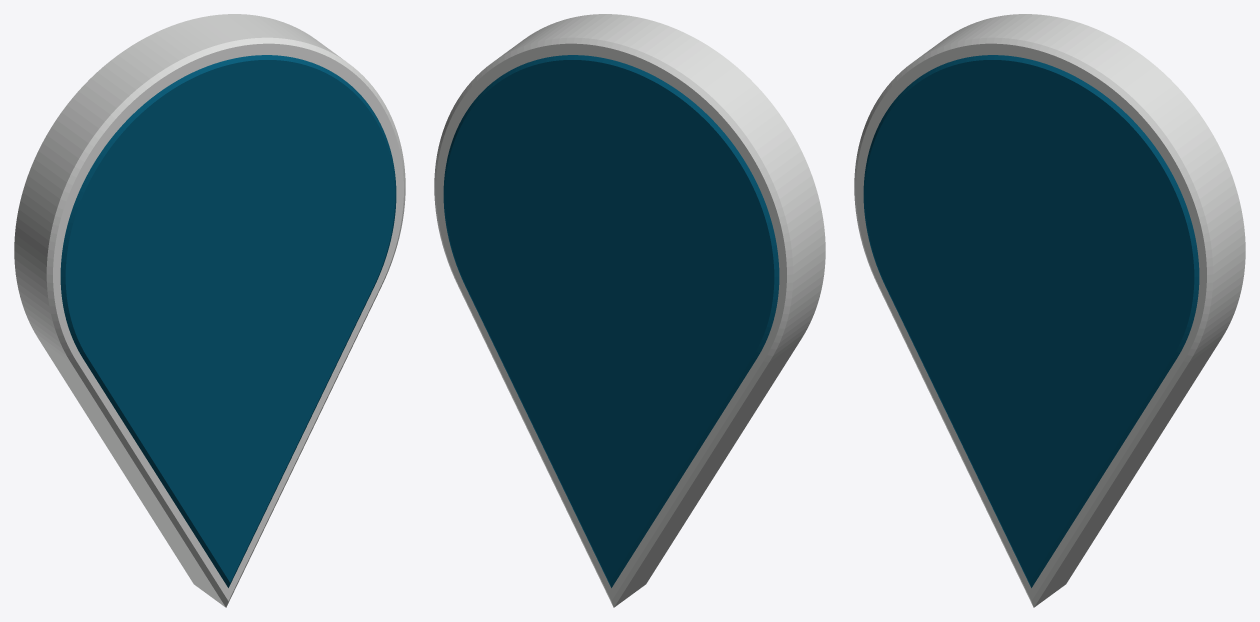
Rendered from plain-teal.glb.
3 views of the same model, side by side, from view 1: azimuth 30°, elevation 25°; view 2: azimuth 150°, elevation 25°; view 3: azimuth 330°, elevation 25° (orthographic).
Parts seen in each view (by area): view 1: marker-body, rim; view 2: marker-body, rim; view 3: marker-body, rim.
Part boxes in pixels (bbox=[...]): marker-body: bbox=[60, 55, 396, 587]; rim: bbox=[14, 14, 405, 607]; marker-body: bbox=[443, 55, 779, 587]; rim: bbox=[434, 14, 825, 607]; marker-body: bbox=[863, 55, 1199, 587]; rim: bbox=[854, 14, 1245, 607].
Bounding box in the file's own units: 2.24 × 3.37 × 0.44.
